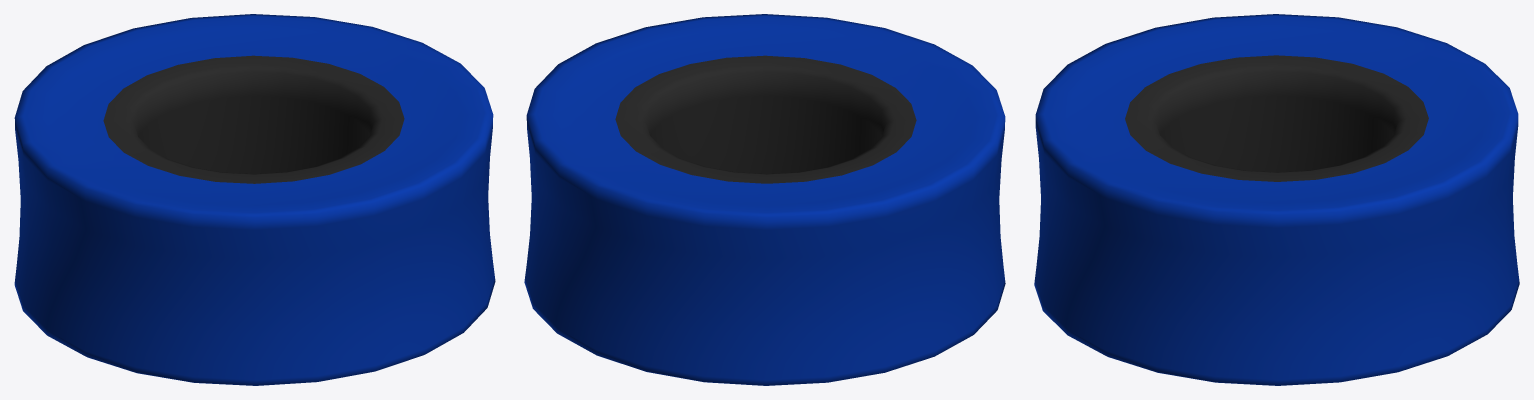
File: tape.fbx
3 renders of one model, left to right at view 1: azimuth 30°, elevation 25°; view 2: azimuth 150°, elevation 25°; view 3: azimuth 270°, elevation 25°, orthographic.
Parts seen in each view (by area): view 1: Torus; view 2: Torus; view 3: Torus.
Part boxes in pixels (bbox=[...]): Torus: bbox=[14, 14, 495, 385]; Torus: bbox=[524, 14, 1005, 385]; Torus: bbox=[1034, 14, 1519, 385].
Bounding box in the file's own units: 77.2 × 30.61 × 77.21.
